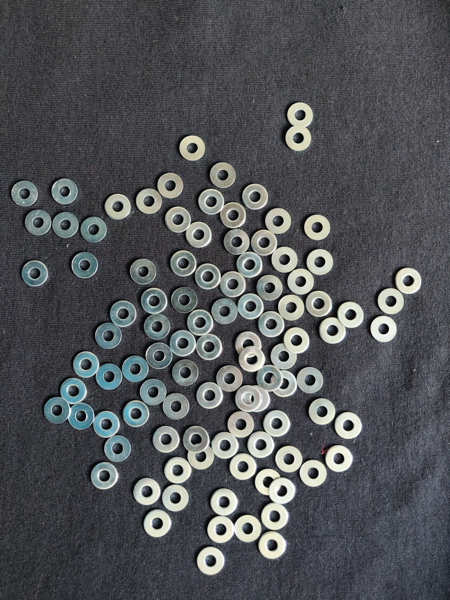circle: (20, 259, 50, 289), (258, 532, 288, 561), (9, 179, 39, 208), (135, 188, 164, 218), (143, 510, 172, 539), (161, 484, 190, 513), (196, 548, 226, 576), (206, 517, 236, 545), (66, 404, 96, 432), (302, 213, 332, 241), (178, 134, 208, 162), (262, 503, 291, 531), (132, 478, 161, 506), (90, 463, 119, 491), (309, 398, 337, 427), (72, 250, 100, 279), (50, 177, 79, 205), (208, 162, 237, 190), (286, 101, 316, 128), (254, 469, 282, 497), (325, 445, 353, 473), (152, 425, 180, 453), (307, 248, 335, 276), (24, 209, 52, 237), (164, 207, 192, 235), (241, 182, 269, 210), (269, 478, 298, 505), (275, 446, 304, 473), (300, 459, 327, 488), (271, 343, 300, 370), (320, 317, 347, 346), (94, 323, 123, 350), (169, 250, 198, 277), (129, 258, 158, 285), (235, 515, 261, 545), (210, 489, 238, 516), (230, 453, 257, 481), (335, 412, 363, 439), (236, 385, 263, 413), (377, 288, 405, 315), (396, 268, 424, 295), (171, 287, 199, 314), (236, 251, 264, 278), (186, 222, 214, 249), (284, 126, 312, 153), (305, 291, 334, 317), (188, 443, 215, 470), (122, 355, 149, 382), (216, 365, 243, 392), (372, 317, 399, 344), (235, 331, 262, 358), (73, 352, 100, 379), (146, 343, 173, 370), (110, 301, 137, 328), (141, 287, 168, 314), (80, 218, 107, 245), (104, 193, 130, 221), (212, 433, 240, 459), (139, 380, 167, 406), (271, 247, 299, 273), (52, 212, 80, 238), (163, 459, 192, 484), (266, 206, 291, 235), (248, 432, 275, 458), (104, 437, 131, 463), (298, 368, 324, 395), (164, 395, 190, 422), (44, 398, 70, 425), (60, 379, 87, 405), (173, 360, 199, 387), (284, 328, 311, 354), (197, 335, 223, 362), (238, 294, 265, 320), (259, 311, 285, 338), (199, 189, 226, 215), (227, 413, 255, 438), (245, 385, 270, 413), (288, 270, 316, 295), (144, 316, 173, 340), (264, 412, 290, 438), (97, 365, 123, 391), (252, 230, 278, 256), (339, 301, 364, 328), (170, 330, 195, 357), (187, 311, 214, 336), (194, 265, 221, 290), (158, 173, 183, 200), (219, 273, 247, 297), (184, 427, 209, 453), (197, 383, 222, 409), (94, 412, 120, 437), (240, 347, 265, 373), (279, 296, 304, 322), (258, 276, 284, 301), (224, 230, 249, 256), (273, 371, 297, 398), (123, 402, 148, 427), (213, 300, 239, 324), (222, 202, 246, 228), (258, 366, 282, 391)
